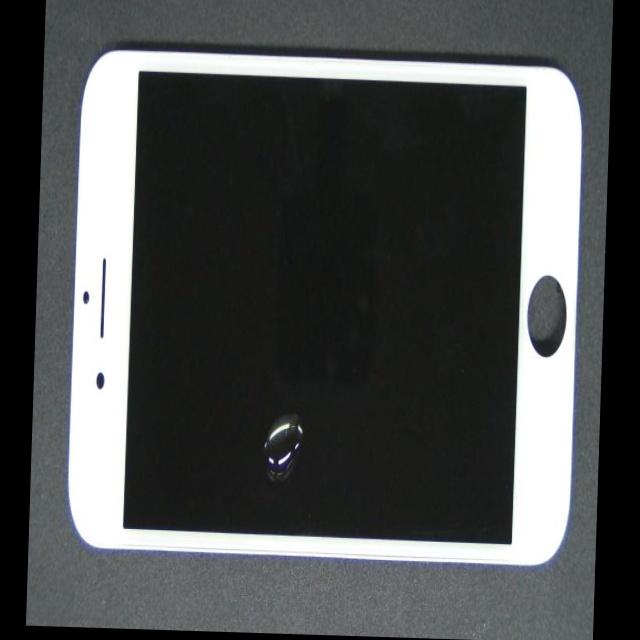oil: (140, 200, 382, 637)
